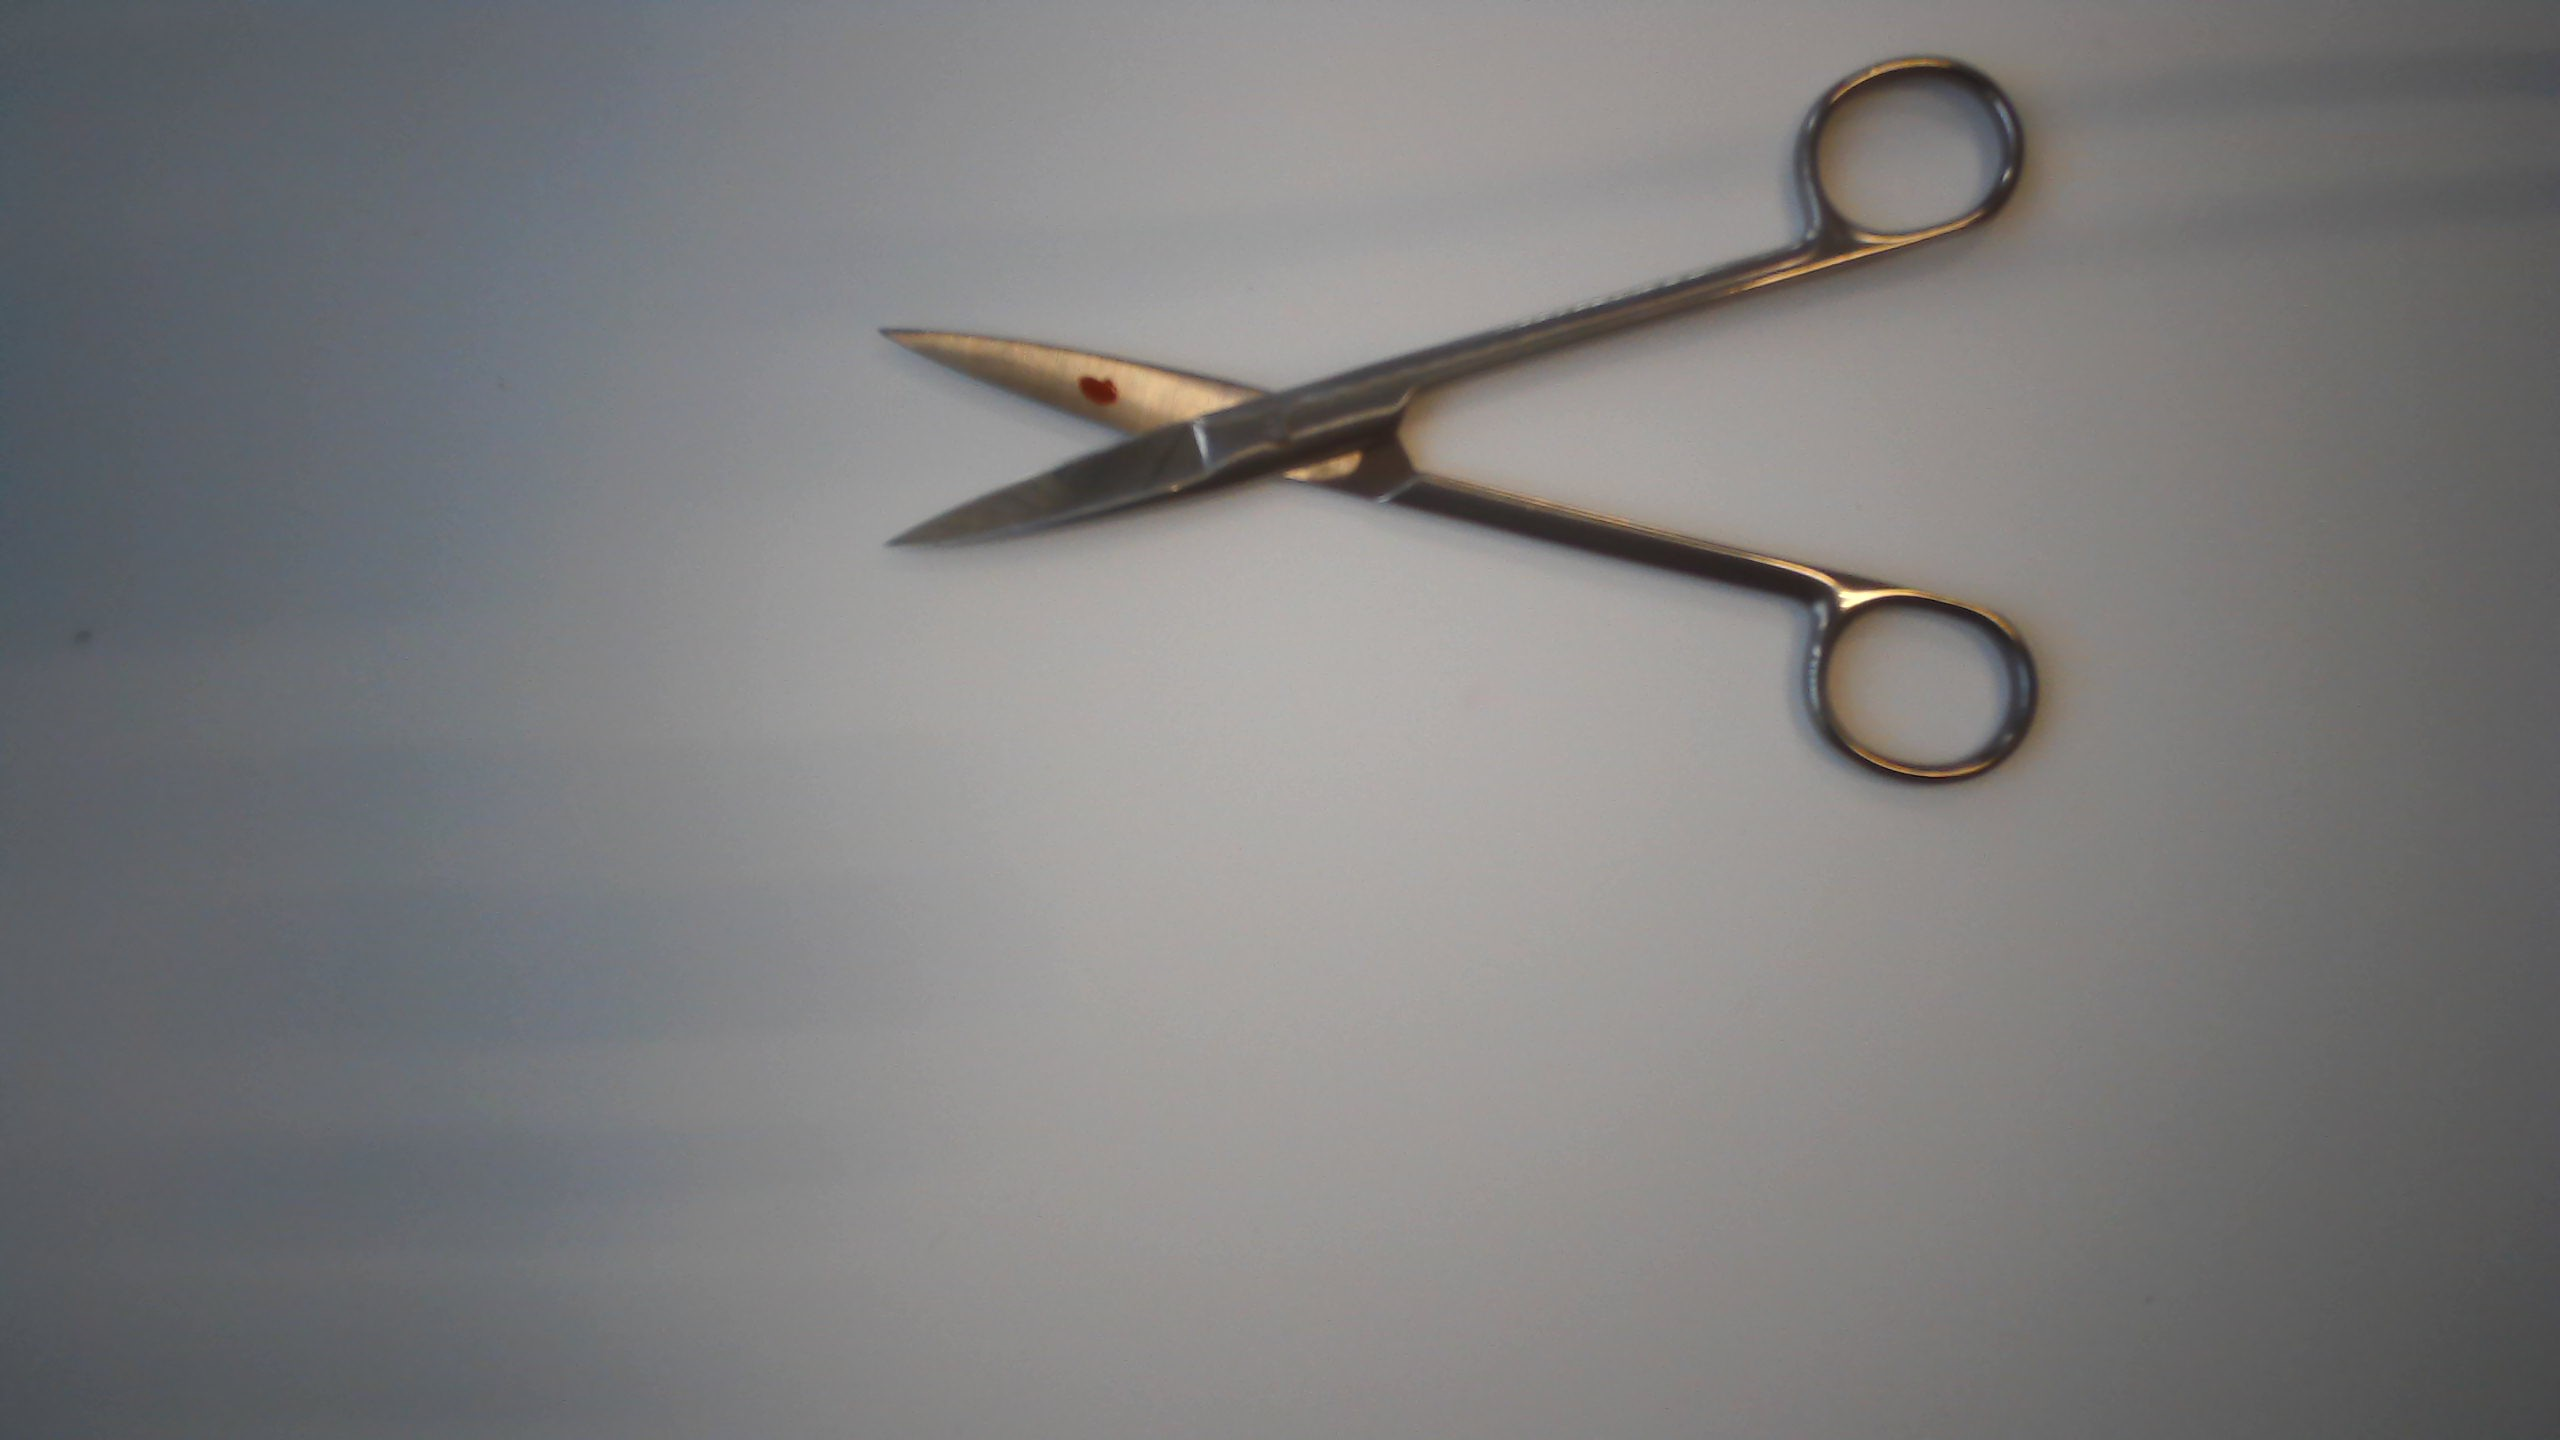Stain: (1065, 366, 1129, 418)
